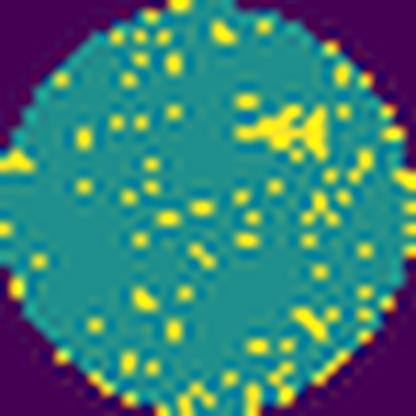Edge-Loc: (234, 102, 332, 162)
